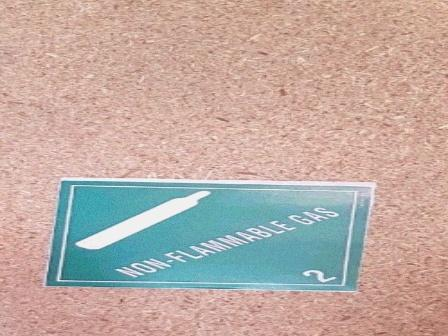non-flammable-gas: (52, 180, 379, 292)
